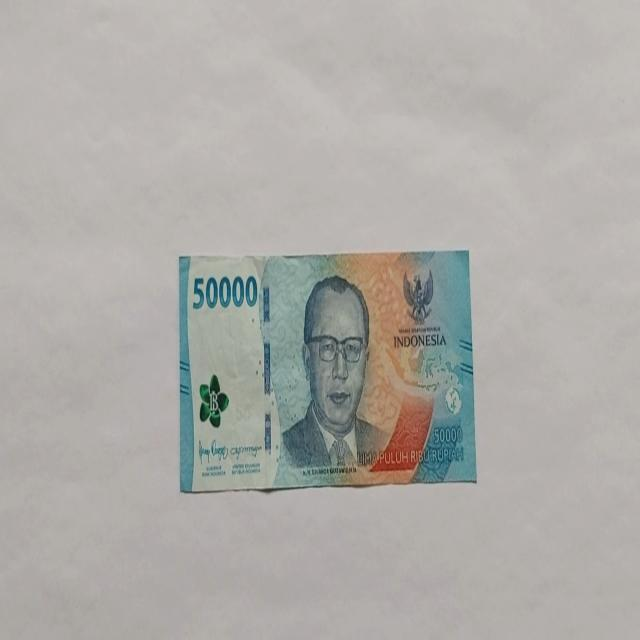lima puluh ribu rupiah: (178, 248, 477, 494), (278, 273, 391, 475)
